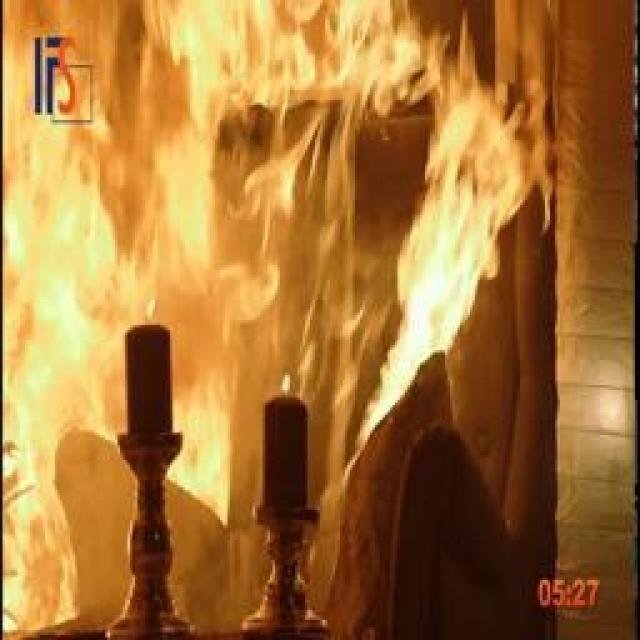fire: (9, 2, 576, 640)
